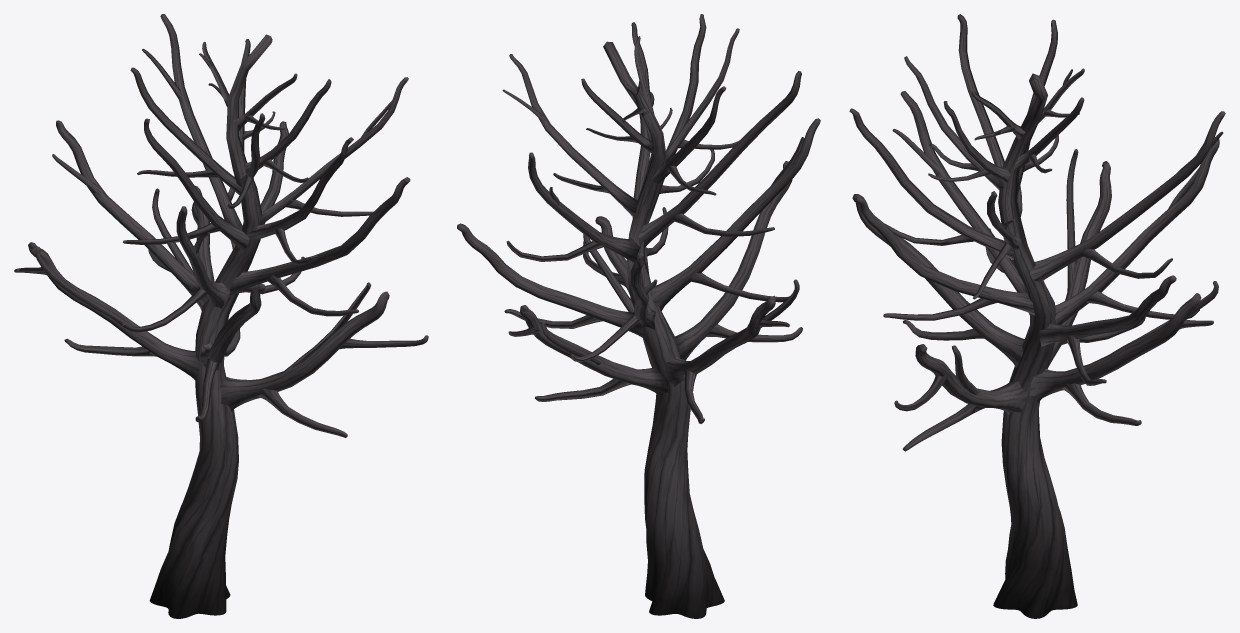
Rendered from DeadTree_1.gltf.
3 views of the same model, side by side, from view 1: azimuth 30°, elevation 25°; view 2: azimuth 150°, elevation 25°; view 3: azimuth 270°, elevation 25° (orthographic). The views are drawn at different scales.
Parts seen in each view (by area): view 1: DeadTree_1; view 2: DeadTree_1; view 3: DeadTree_1.
Boxes of the visible parts, bbox=[...] form: DeadTree_1: bbox=[14, 14, 428, 618]; DeadTree_1: bbox=[457, 14, 820, 618]; DeadTree_1: bbox=[849, 14, 1225, 618].
Bounding box in the file's own units: 6.15 × 9.5 × 5.75.
1 material, 1 textured.
